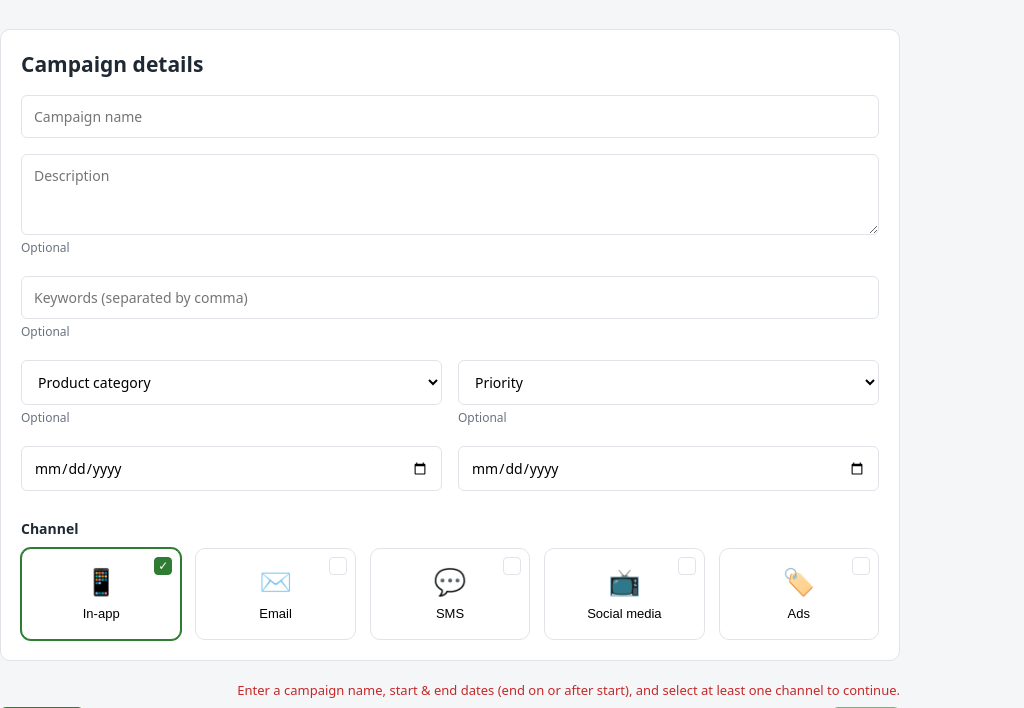
it: creates a new segment from inside the wizard and auto-selects it
Type "My Campaign" into the field with placeholder "Campaign name" at (450, 117), box [21, 95, 879, 138]
Type "2026-07-01" into the date field with placeholder "Start date" at (232, 469), box [21, 446, 442, 491]
Type "2026-08-01" into the date field with placeholder "End date" at (668, 469), box [458, 446, 879, 491]
(page scrolled)
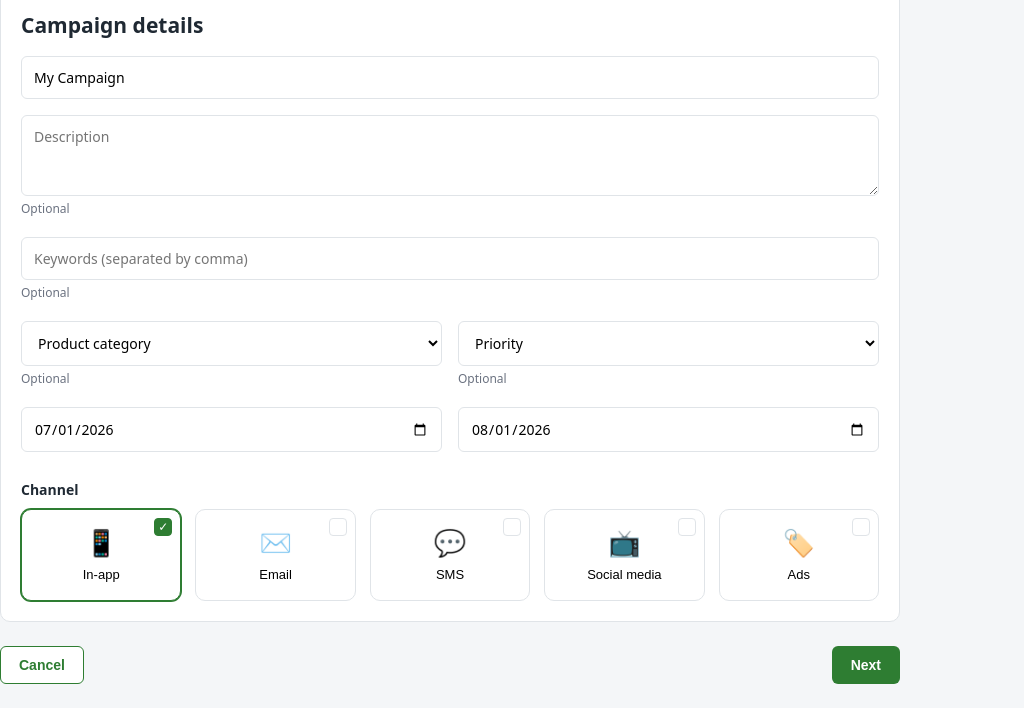
Click the button "Next" at (866, 665), box [832, 646, 900, 684]
(page scrolled)
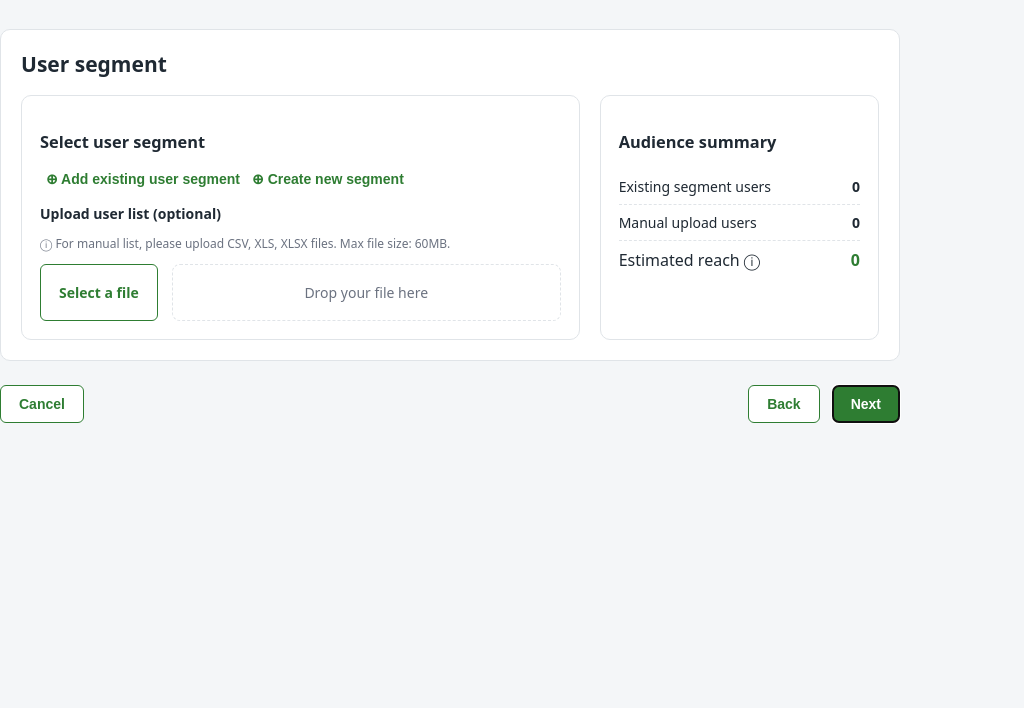
Expected: the heading "Audience summary" is shown, [619, 131, 776, 153]
Click the button "⊕ Create new segment" at (328, 179), box [246, 170, 410, 188]
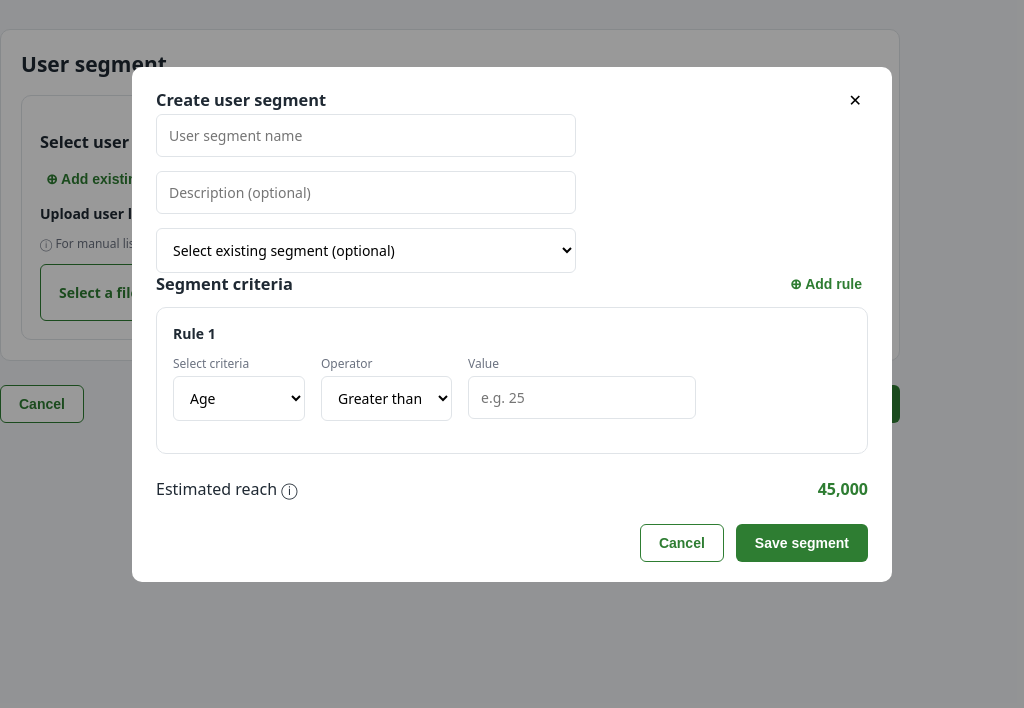
Type "Wizard Seg" into the field with placeholder "User segment name" at (366, 135), box [156, 114, 576, 156]
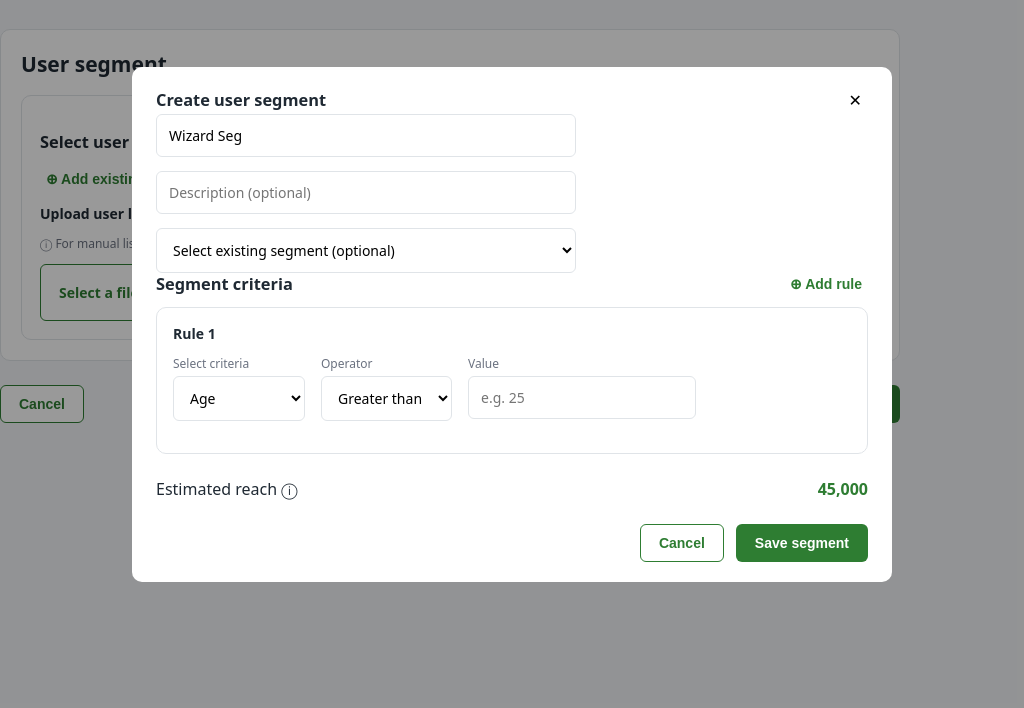
Type "25" into the field with placeholder "e.g. 25" at (582, 397), box [468, 376, 696, 418]
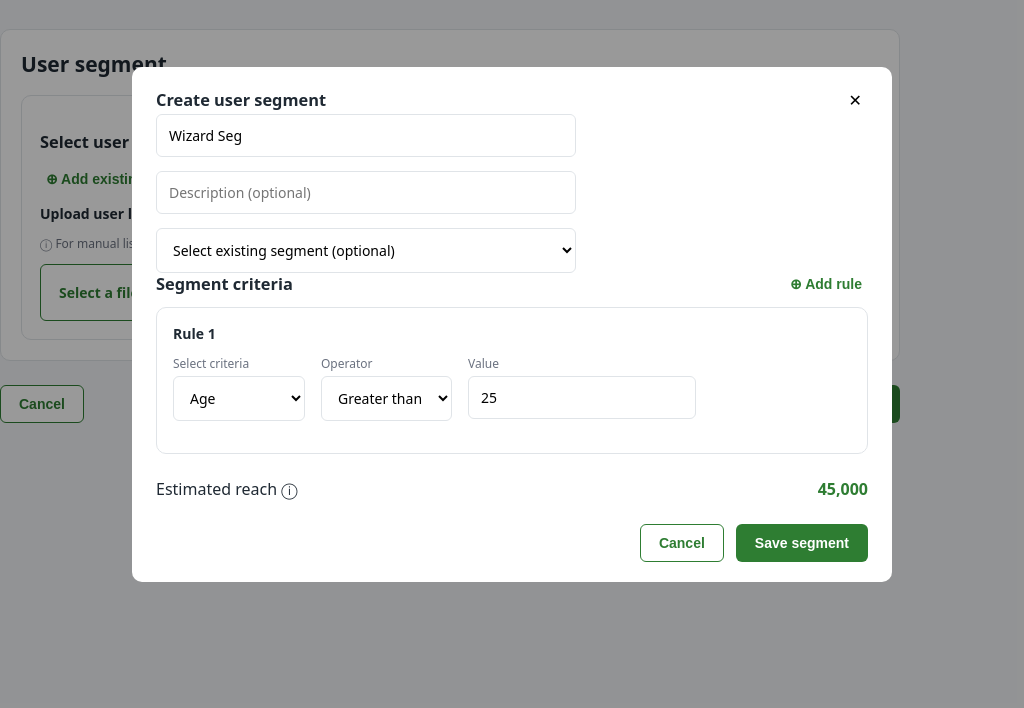
Click the button "Save segment" at (802, 542), box [736, 524, 868, 562]
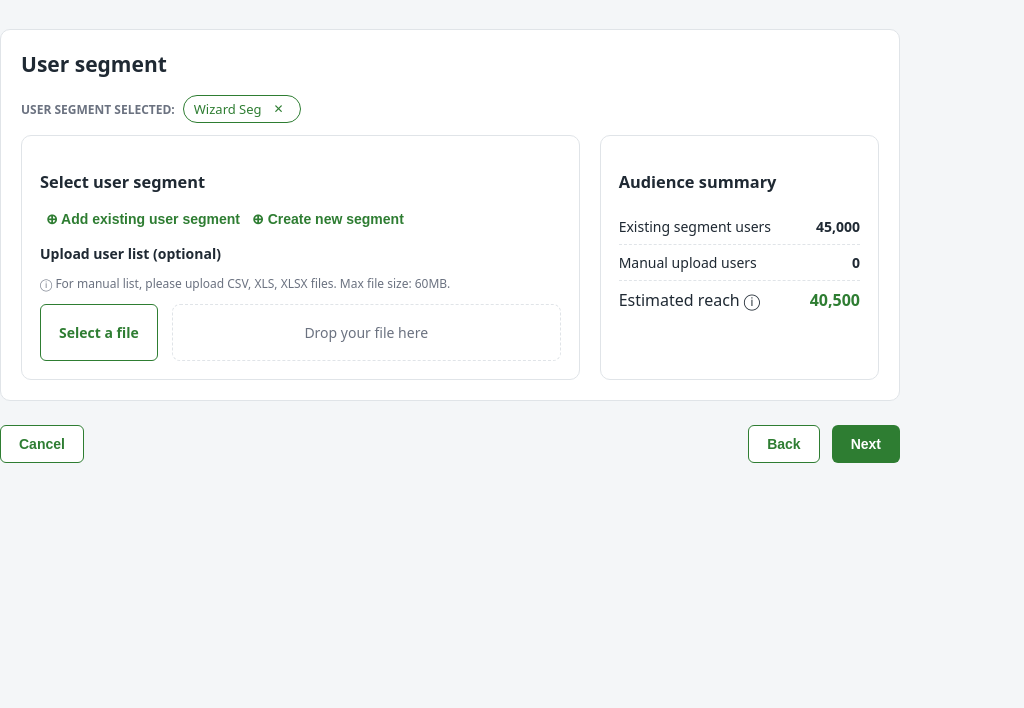
Expected: the text "Wizard Seg" is shown, [194, 100, 262, 118]
